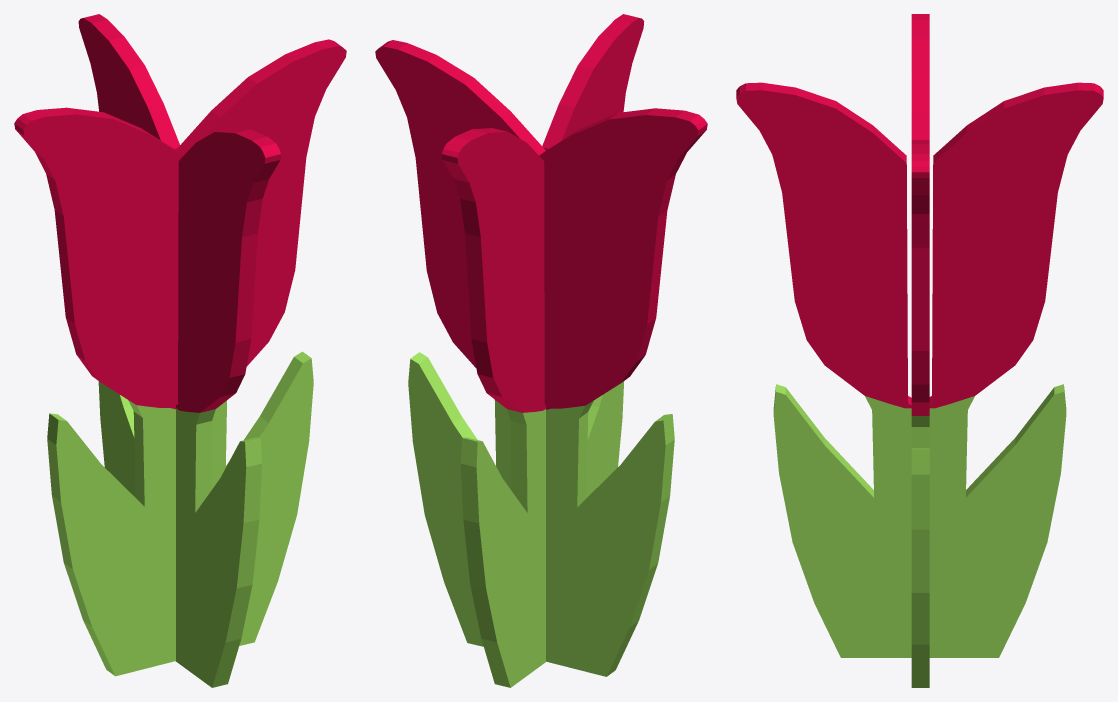
File: flower.fbx
The picture shows the model from 3 angles, left to right: view 1: azimuth 30°, elevation 25°; view 2: azimuth 150°, elevation 25°; view 3: azimuth 270°, elevation 25°; orthographic projection.
Visible parts, largest first — view 1: Plane.003; view 2: Plane.003; view 3: Plane.003.
Part boxes in pixels (left/top/right/bottom): Plane.003: left=14, top=14, right=346, bottom=687; Plane.003: left=375, top=14, right=707, bottom=687; Plane.003: left=736, top=14, right=1103, bottom=687.
Size of the model in its own units: 61.12 by 104 by 61.12.
